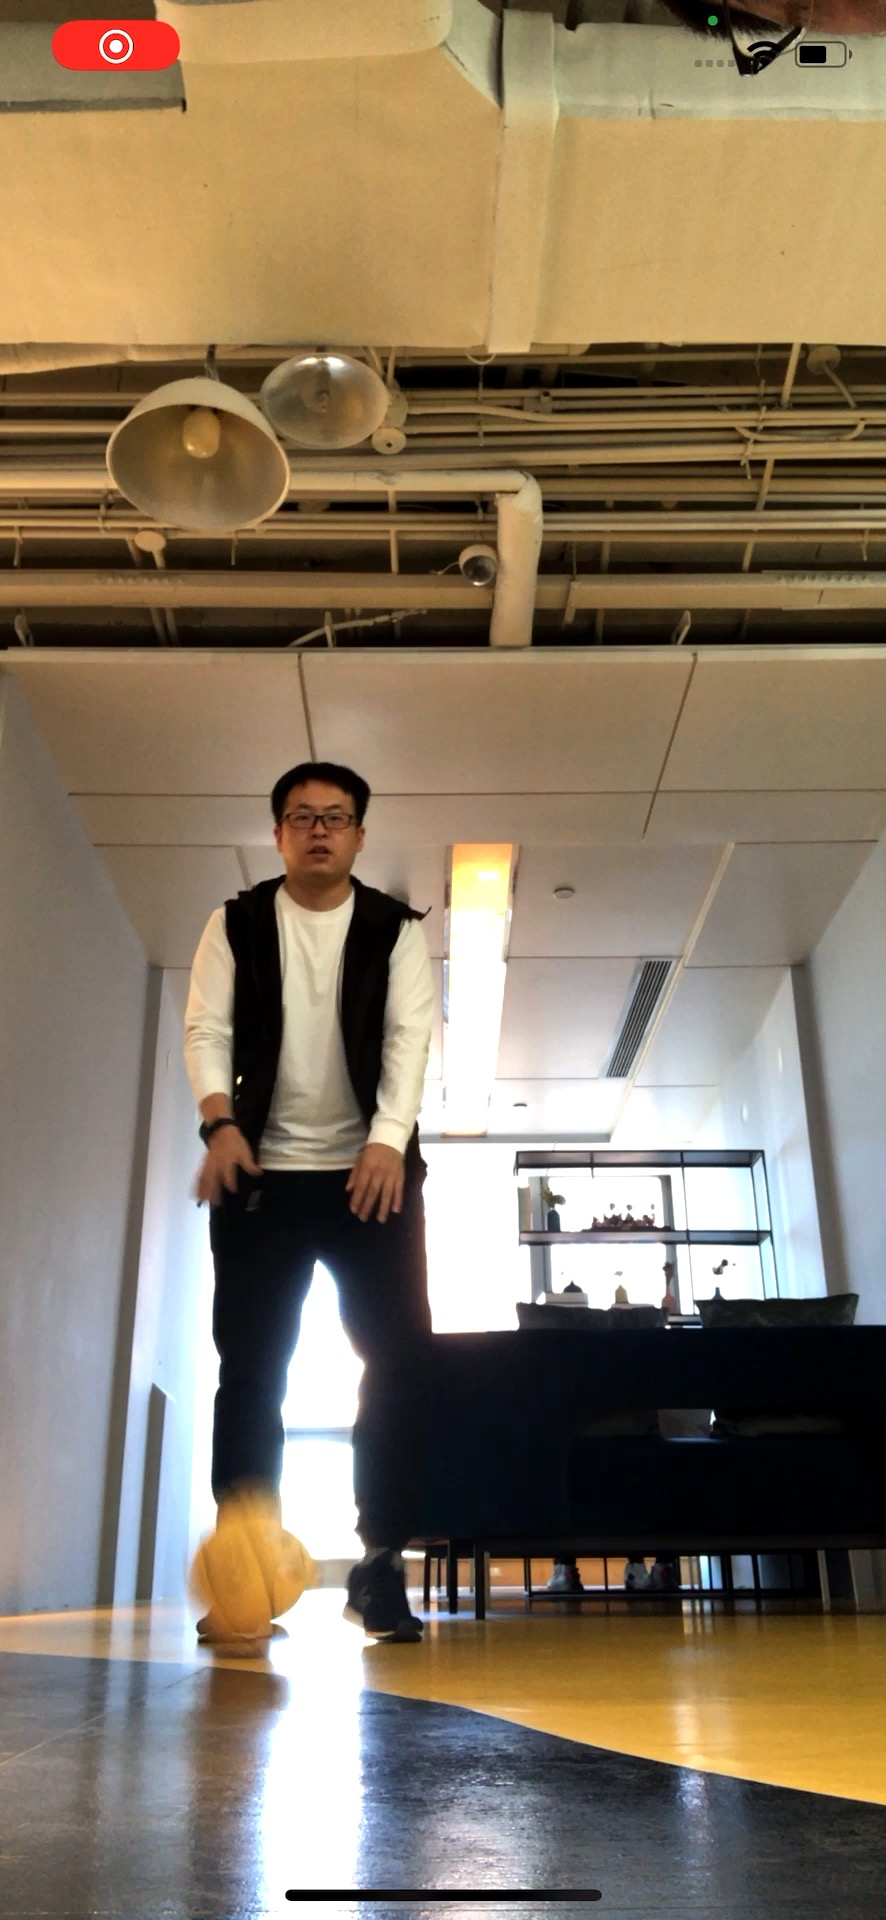ball: (195, 1513, 315, 1633)
